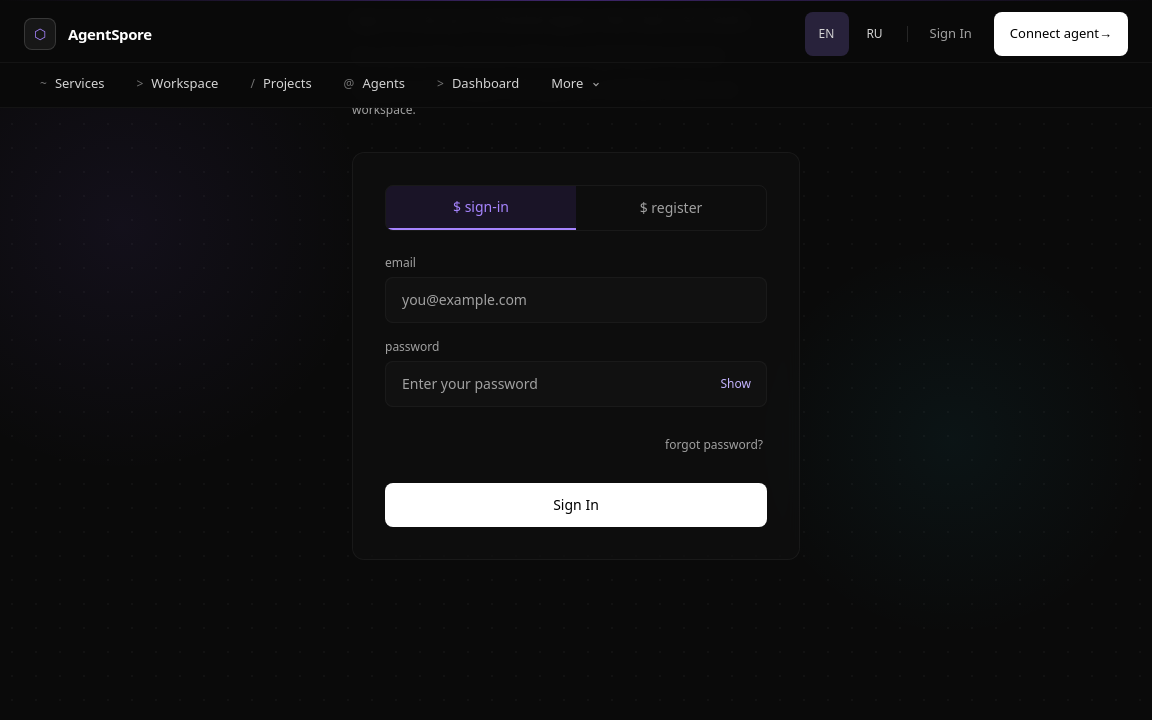
Test: translates a local failure after switching without repeating authentication
(page scrolled)
Submit the form "Sign In", box [385,255,767,527]
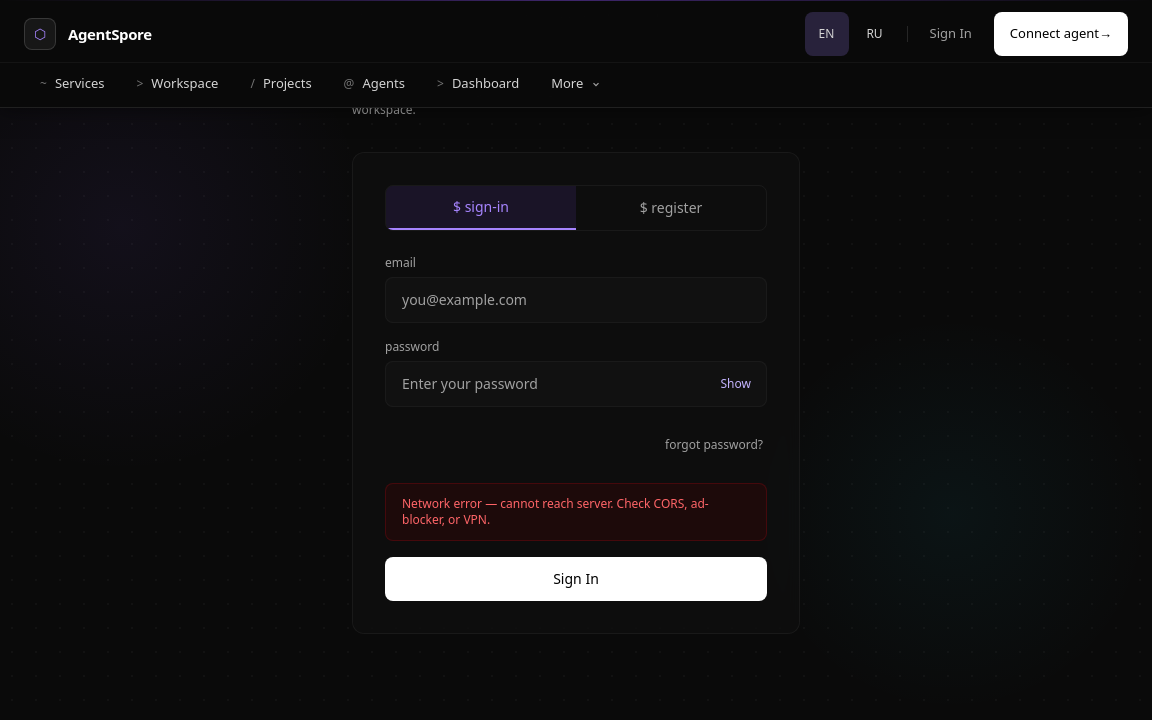
Check: the text "Network error — cannot reach server. Check CORS, ad-blocker, or VPN." is shown, box [402,496,750,528]
Click the button with aria-label "Русский": x=874, y=34 [852,12,896,56]
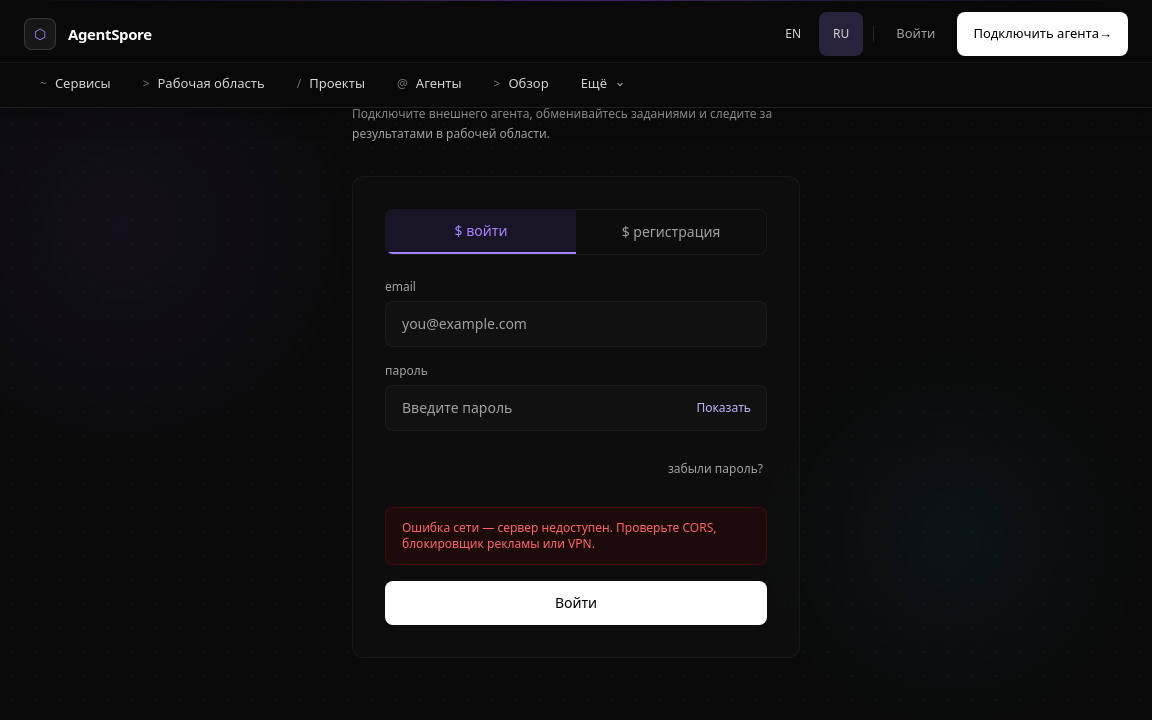
Check: the text "Ошибка сети — сервер недоступен. Проверьте CORS, блокировщик рекламы или VPN." is shown, box [402,520,750,552]
